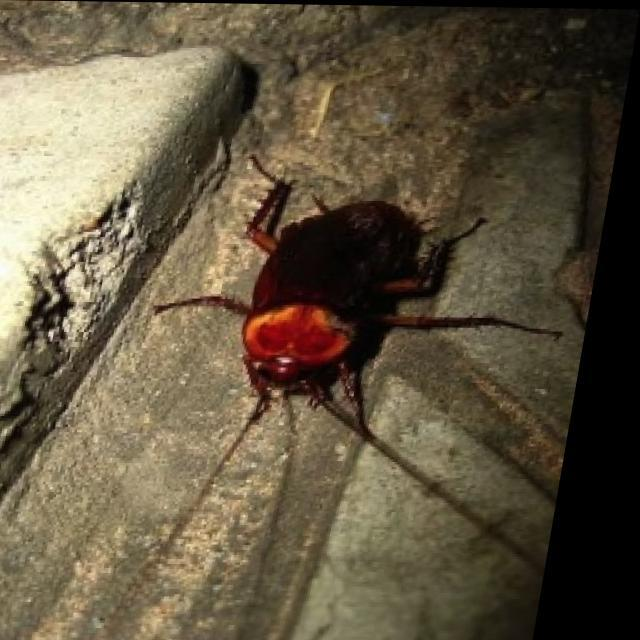cockroach: (148, 153, 564, 452)
